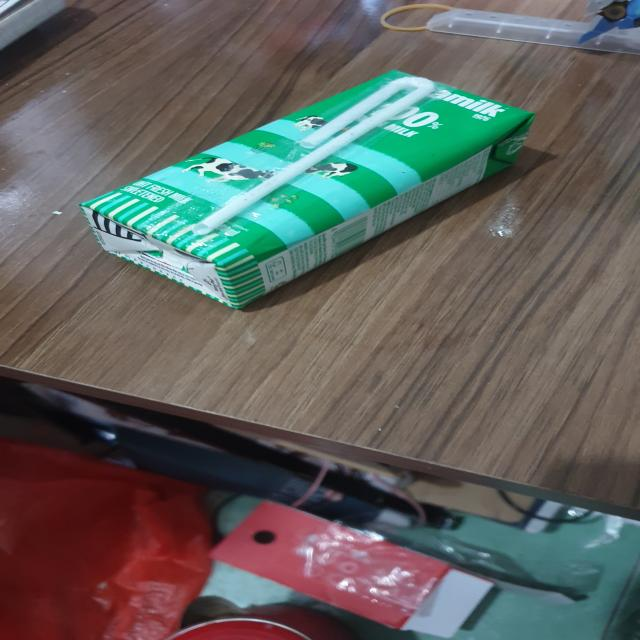Vina: (89, 71, 532, 310)
